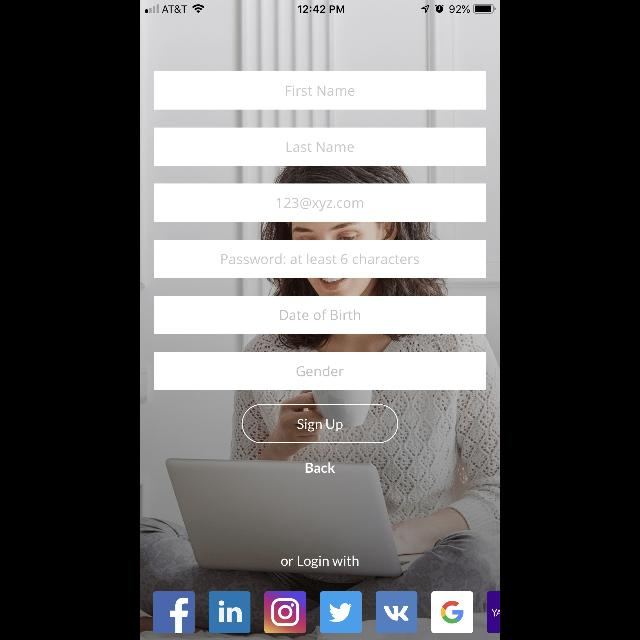backgroundimage: (140, 1, 500, 640)
icon: (153, 591, 195, 633), (320, 591, 362, 633), (431, 591, 473, 633)
image: (209, 591, 251, 633), (264, 591, 306, 633), (376, 591, 418, 633), (486, 591, 499, 633)
input: (154, 352, 486, 390), (154, 296, 486, 334), (154, 240, 486, 278), (154, 184, 486, 222), (154, 128, 486, 166), (154, 72, 486, 110)
text: (221, 253, 419, 264), (276, 197, 364, 211), (281, 556, 359, 568), (280, 310, 360, 320), (286, 85, 354, 96), (286, 142, 354, 152), (296, 366, 344, 376), (305, 462, 335, 473)
textbutton: (242, 404, 398, 444)
uppertaskbar: (140, 0, 500, 14)
